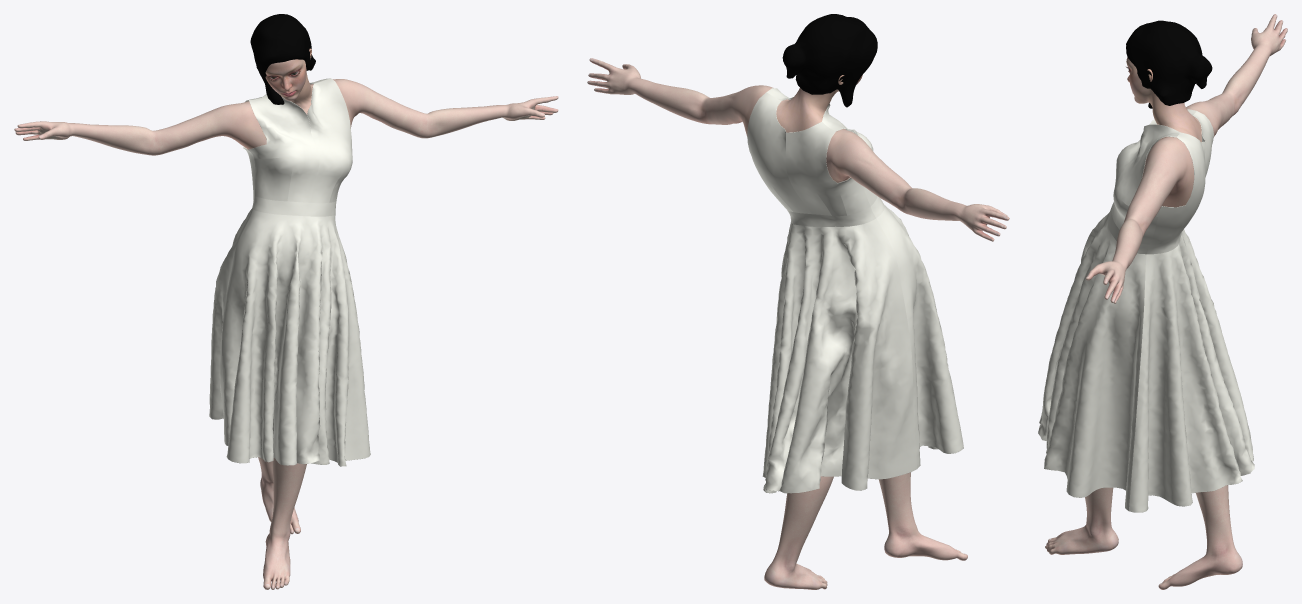
Rendered from Custom_View_5__Dynamic_2.obj.
3 renders of one model, left to right at view 1: azimuth 30°, elevation 25°; view 2: azimuth 150°, elevation 25°; view 3: azimuth 270°, elevation 25°, orthographic. The views are drawn at different scales.
Size of the model in its own units: 1601 by 1717 by 699.
